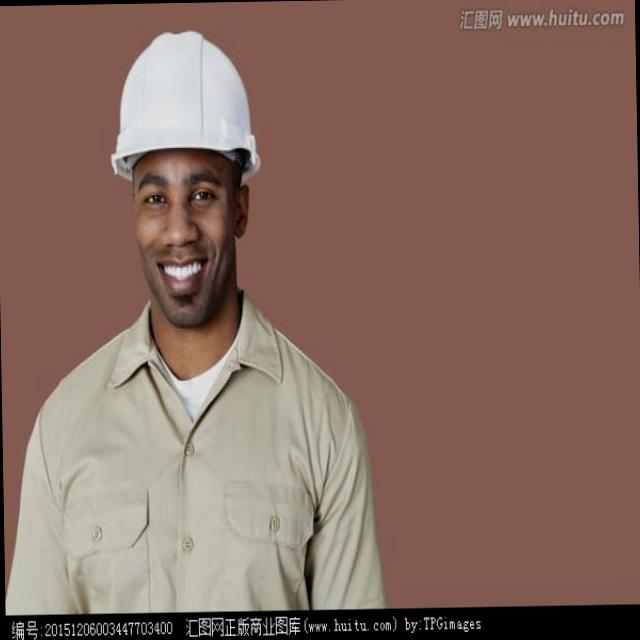helmet: (104, 24, 262, 194)
no-goggles: (123, 166, 241, 222)
no-vest: (54, 336, 350, 610)
